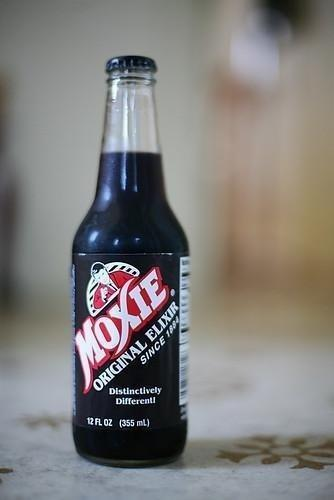bottle-glass: (69, 54, 195, 469)
